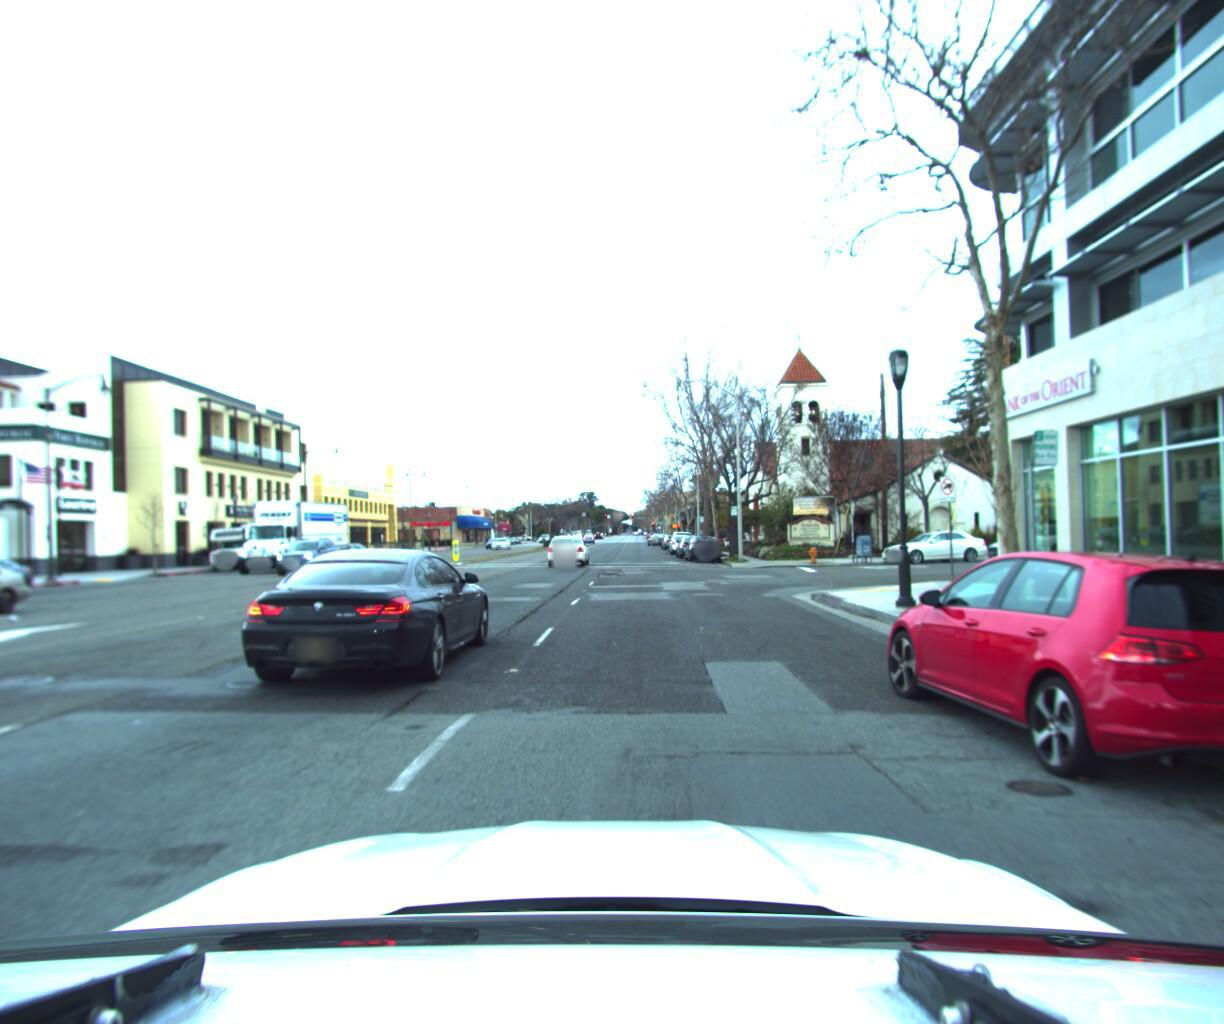car: (853, 535, 1224, 823), (210, 535, 500, 700), (975, 517, 1094, 556), (871, 521, 990, 558), (267, 536, 349, 577), (0, 557, 38, 636), (0, 554, 43, 609), (540, 528, 593, 566), (684, 529, 723, 558), (675, 528, 711, 555), (669, 528, 697, 550)
other_vehicle: (201, 520, 297, 568)
truck: (215, 493, 360, 575)
